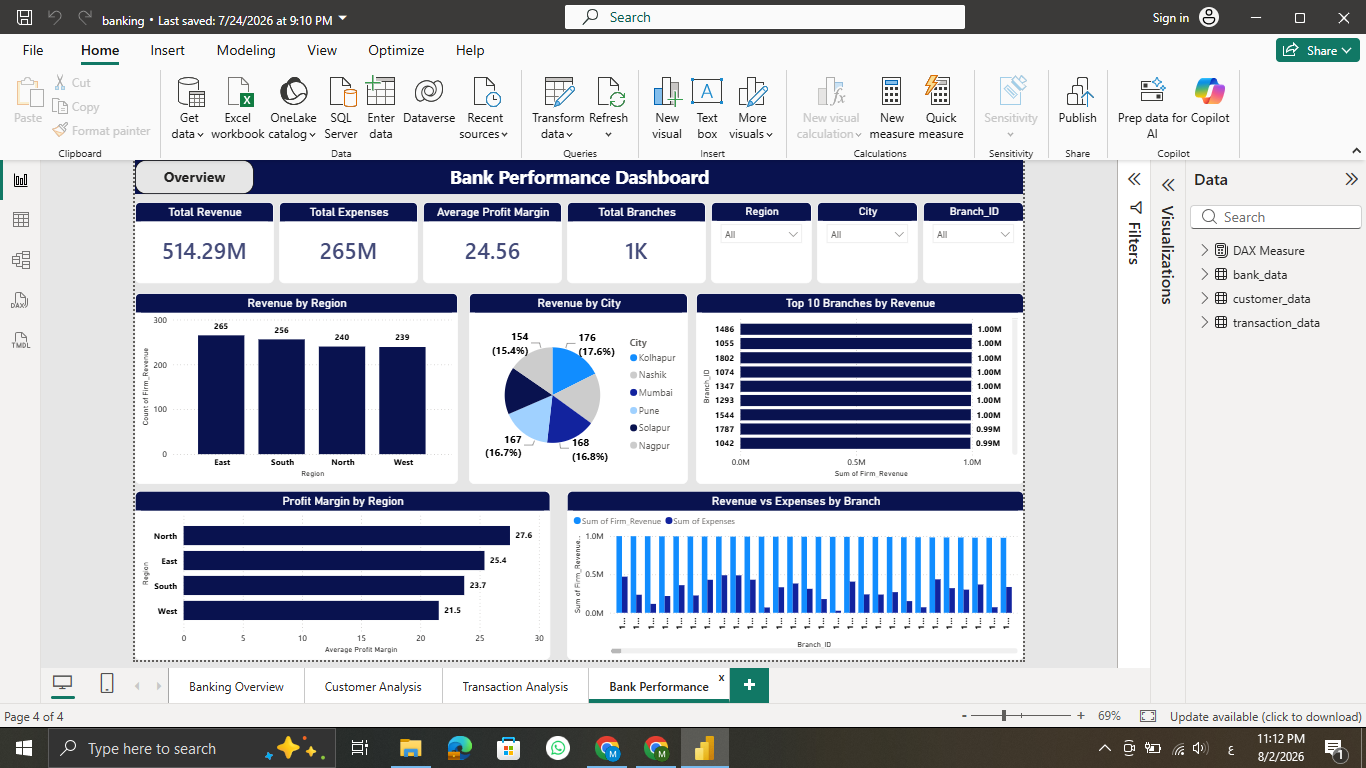

The dashboard page shown, as its layout file describes it:
{"tool":"powerbi","page":{"name":"Bank Performance","canvas":[1280,720],"ordinal":3},"visuals":[{"type":"textbox","box":[0,0,1280.2,49],"z":0},{"type":"cardVisual","title":"Total Revenue","fields":{"Data":["DAX Measure.Total Revenue"]},"box":[0,60.5,200.2,116.6],"z":1},{"type":"cardVisual","title":"Total Expenses","fields":{"Data":["DAX Measure.Total Expenses"]},"box":[207.4,60.5,200.2,116.6],"z":2},{"type":"cardVisual","title":"Total Branches","fields":{"Data":["DAX Measure.Total Branches"]},"box":[622.1,60.5,200.2,116.6],"z":3},{"type":"cardVisual","title":"Average Profit Margin","fields":{"Data":["DAX Measure.Average Profit Margin"]},"box":[414.7,60.5,200.2,116.6],"z":4},{"type":"slicer","title":"Region","fields":{"Values":["bank_data.Region"]},"box":[829.4,60.5,145.4,116.6],"z":5},{"type":"slicer","title":"City","fields":{"Values":["bank_data.City"]},"box":[982.1,60.5,145.4,116.6],"z":6},{"type":"slicer","title":"Branch_ID","fields":{"Values":["bank_data.Branch_ID"]},"box":[1134.6,60.5,145.4,116.6],"z":7},{"type":"clusteredColumnChart","title":"Revenue by Region","fields":{"Category":["bank_data.Region"],"Y":["CountNonNull(bank_data.Firm_Revenue)"]},"box":[0,191.5,465.1,275],"z":8},{"type":"pieChart","title":"Revenue by City","fields":{"Category":["bank_data.City"],"Y":["CountNonNull(bank_data.Profit_Margin)"]},"box":[481,191.5,315.4,275],"z":10},{"type":"barChart","title":"Profit Margin by Region","fields":{"Category":["bank_data.Region"],"Y":["DAX Measure.Average Profit Margin"]},"box":[0,476.6,597.6,243.4],"z":11},{"type":"clusteredBarChart","title":"Top 10 Branches by Revenue","fields":{"Category":["bank_data.Branch_ID"],"Y":["Sum(bank_data.Firm_Revenue)"]},"box":[807.7,191.5,472.3,275],"z":12},{"type":"clusteredColumnChart","title":"Revenue vs Expenses by Branch","fields":{"Category":["bank_data.Branch_ID"],"Y":["Sum(bank_data.Firm_Revenue)","Sum(bank_data.Expenses)"]},"box":[622.1,476.6,658.1,243.4],"z":13},{"type":"actionButton","box":[0,0,171.4,49],"z":14}]}

Visuals, with their boxes on the page's 1280x720 design canvas (x1, y1, x2, y2). These are canvas units, not pixel positions in the 1366x768 screenshot, which may show the page scaled, cropped or inside an application window:
textbox: box(0, 0, 1280, 49)
"Total Revenue" cardVisual: box(0, 60, 200, 177)
"Total Expenses" cardVisual: box(207, 60, 408, 177)
"Total Branches" cardVisual: box(622, 60, 822, 177)
"Average Profit Margin" cardVisual: box(415, 60, 615, 177)
"Region" slicer: box(829, 60, 975, 177)
"City" slicer: box(982, 60, 1128, 177)
"Branch_ID" slicer: box(1135, 60, 1280, 177)
"Revenue by Region" clusteredColumnChart: box(0, 192, 465, 466)
"Revenue by City" pieChart: box(481, 192, 796, 466)
"Profit Margin by Region" barChart: box(0, 477, 598, 720)
"Top 10 Branches by Revenue" clusteredBarChart: box(808, 192, 1280, 466)
"Revenue vs Expenses by Branch" clusteredColumnChart: box(622, 477, 1280, 720)
actionButton: box(0, 0, 171, 49)
